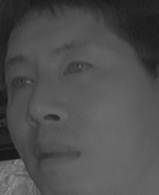eye: (61, 56, 94, 81), (8, 72, 35, 93)
mouth: (27, 138, 82, 172)
